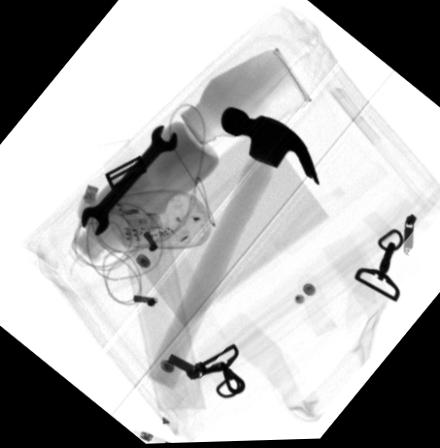Hammer: (145, 107, 320, 390)
Wrench: (79, 125, 176, 238)
